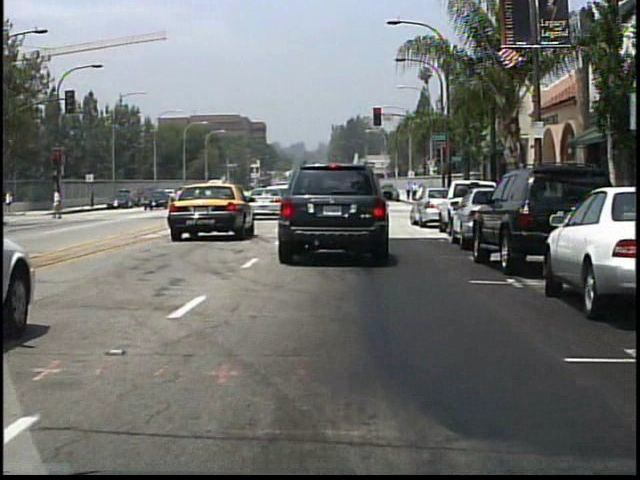person: (411, 181, 431, 215), (52, 186, 65, 223), (4, 190, 15, 214), (420, 180, 428, 203), (404, 181, 412, 202), (412, 180, 419, 203)
